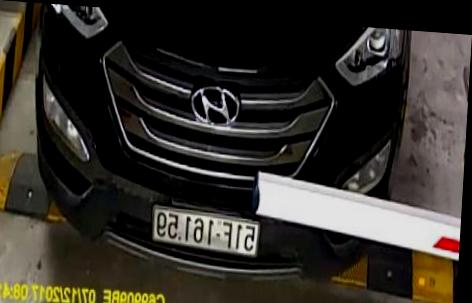License_Plate: (145, 206, 259, 259)
